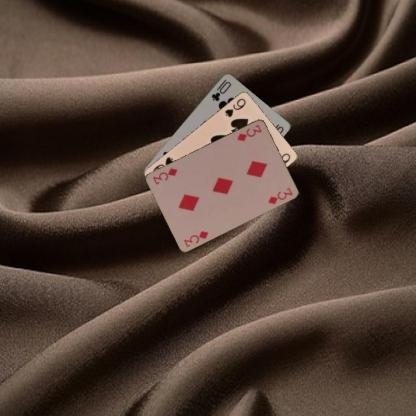10c: (209, 76, 232, 102)
3d: (234, 122, 263, 142), (181, 228, 210, 248)
9s: (223, 95, 247, 118)
